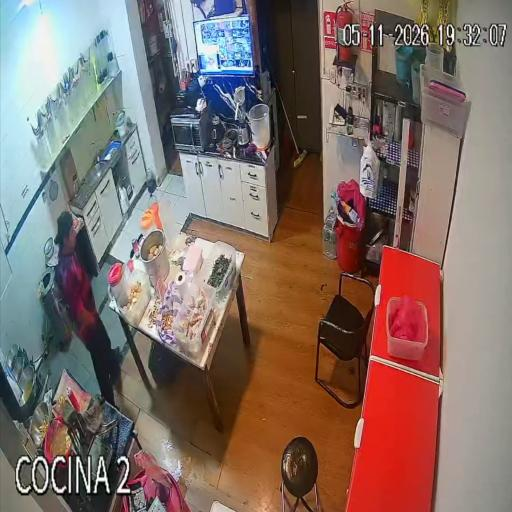Balde: (249, 104, 271, 150)
Envase Ketchup: (66, 387, 79, 410)
Envase Llajua: (59, 395, 66, 408)
Jarra1: (108, 263, 128, 302)
Jarra2: (141, 210, 156, 231)
Jarra3: (158, 194, 180, 247)
JarraLicuadora: (74, 175, 79, 196)
Microondas: (171, 106, 211, 152)
Persona1: (55, 212, 118, 402)
Taper: (202, 242, 235, 302)
Taper2: (174, 283, 215, 355)
Taper3: (114, 269, 150, 325)
Taper4: (386, 297, 429, 360)
olla1: (140, 229, 169, 283)
